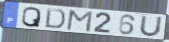2: (93, 12, 113, 35)
6: (118, 14, 137, 36)
D: (44, 7, 67, 30)
M: (65, 9, 94, 33)
Q: (21, 6, 43, 28)
U: (139, 15, 164, 37)
